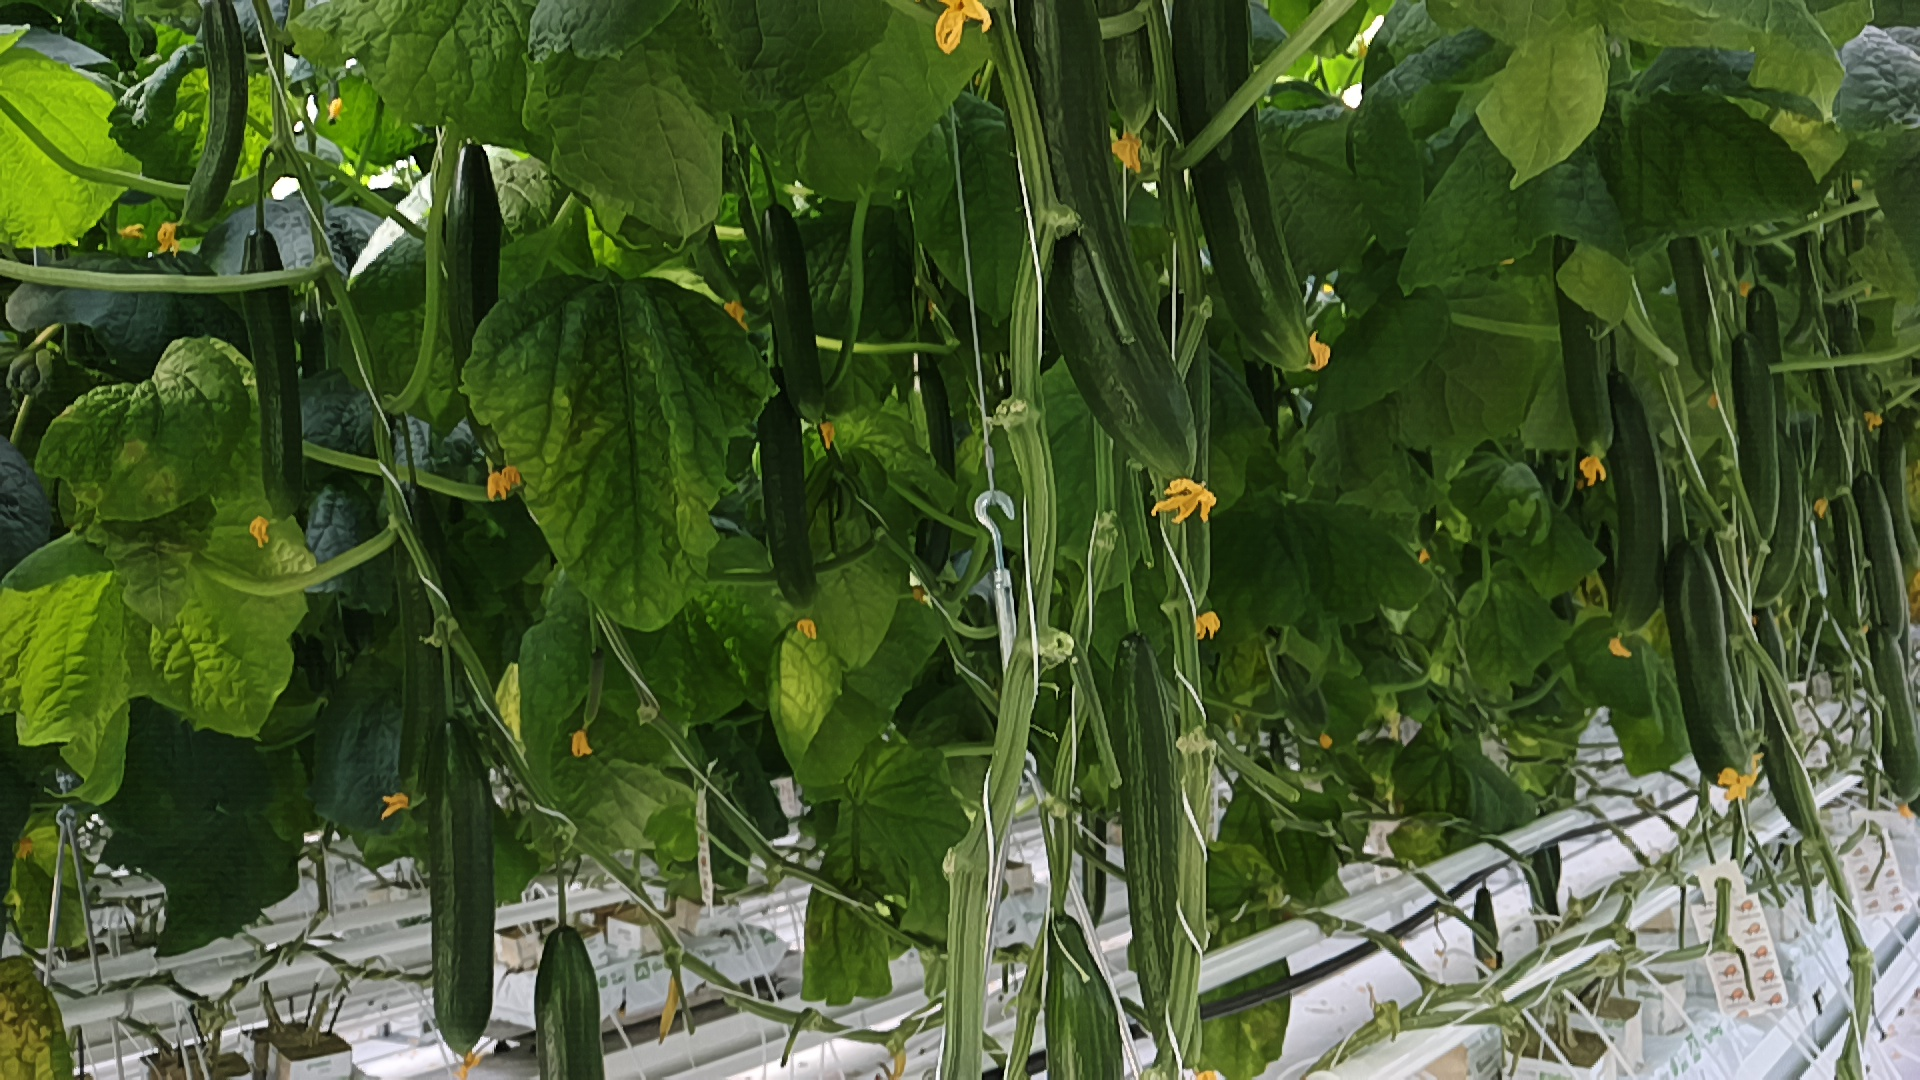gurka: (415, 716, 513, 1068), (1658, 531, 1764, 799), (233, 225, 328, 522), (1593, 363, 1667, 662), (756, 200, 843, 425), (754, 393, 837, 609), (1720, 328, 1787, 554)
